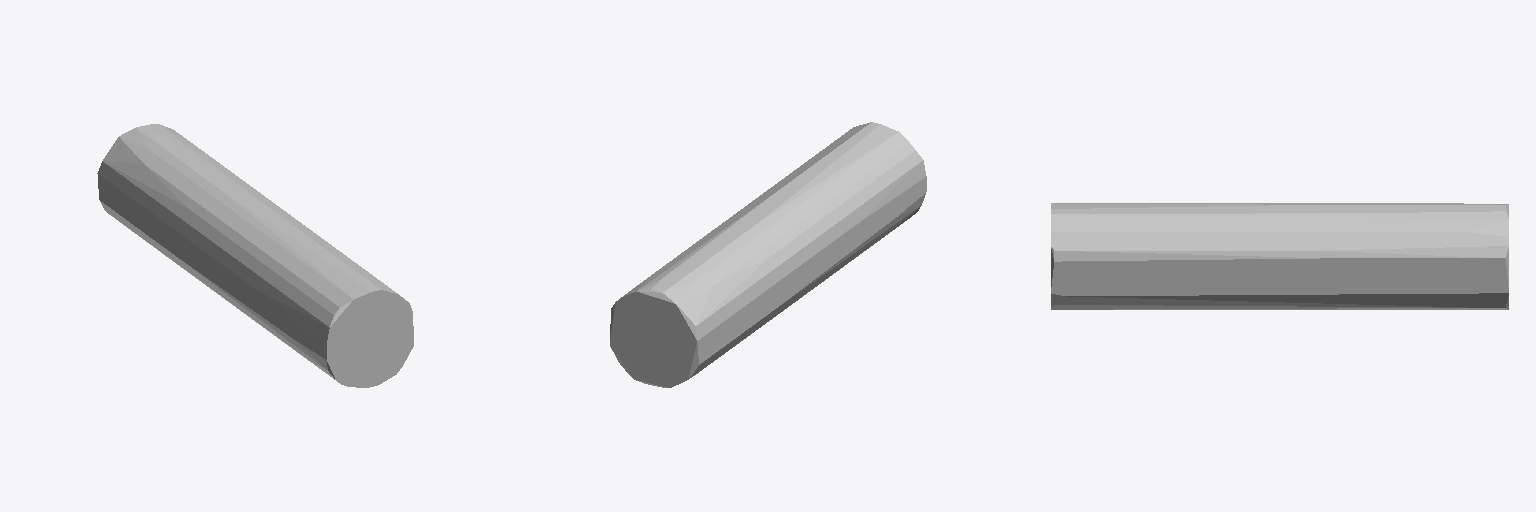
The model's file is cylinder_long_decimated.obj.
3 renders of one model, left to right at view 1: azimuth 30°, elevation 25°; view 2: azimuth 150°, elevation 25°; view 3: azimuth 270°, elevation 25°, orthographic.
Visible parts, largest first — view 1: convex_0; view 2: convex_0; view 3: convex_0.
Boxes of the visible parts, x1,y1,x2,y2 form: convex_0: [97, 124, 413, 387]; convex_0: [610, 122, 926, 387]; convex_0: [1051, 203, 1508, 309].
Size of the model in its own units: 14.13 by 14.61 by 63.81.